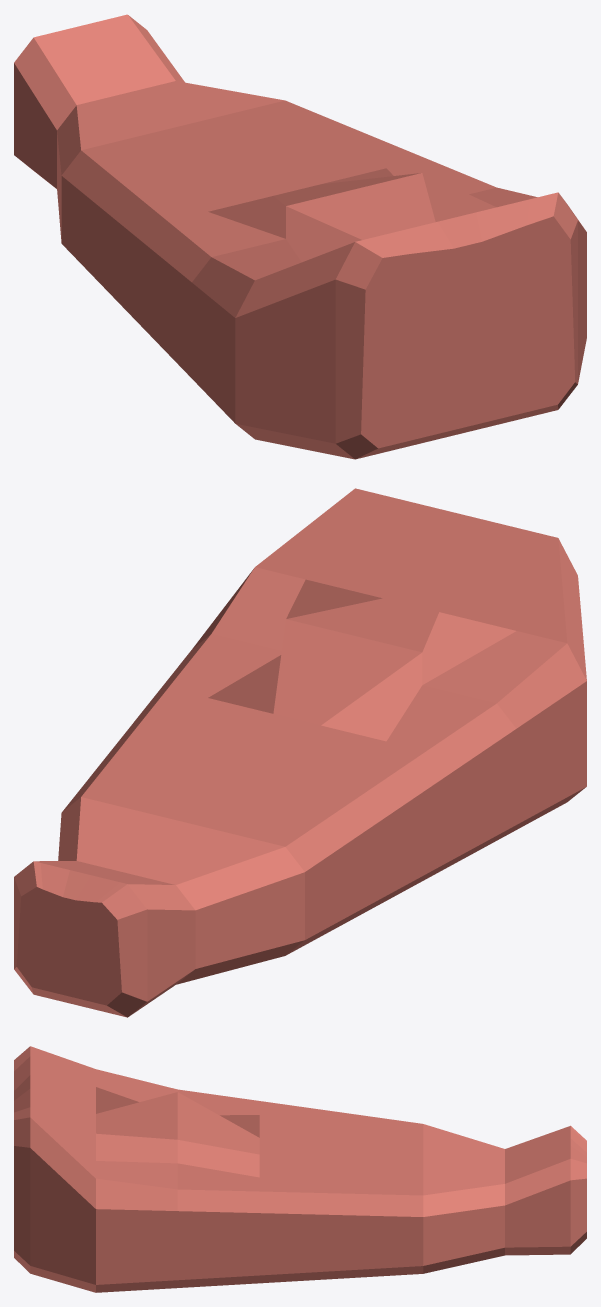
File: calder_light_c.glb
3 renders of one model, top to bottom at view 1: azimuth 30°, elevation 25°; view 2: azimuth 150°, elevation 25°; view 3: azimuth 270°, elevation 25°, orthographic. The views are drawn at different scales.
Parts seen in each view (by area): view 1: calder_light_c; view 2: calder_light_c; view 3: calder_light_c.
Part boxes in pixels (left/top/right/bottom): calder_light_c: left=14, top=14, right=586, bottom=459; calder_light_c: left=14, top=488, right=586, bottom=1017; calder_light_c: left=14, top=1046, right=586, bottom=1292.
Bounding box in the file's own units: 2.8 × 1.66 × 5.5.
